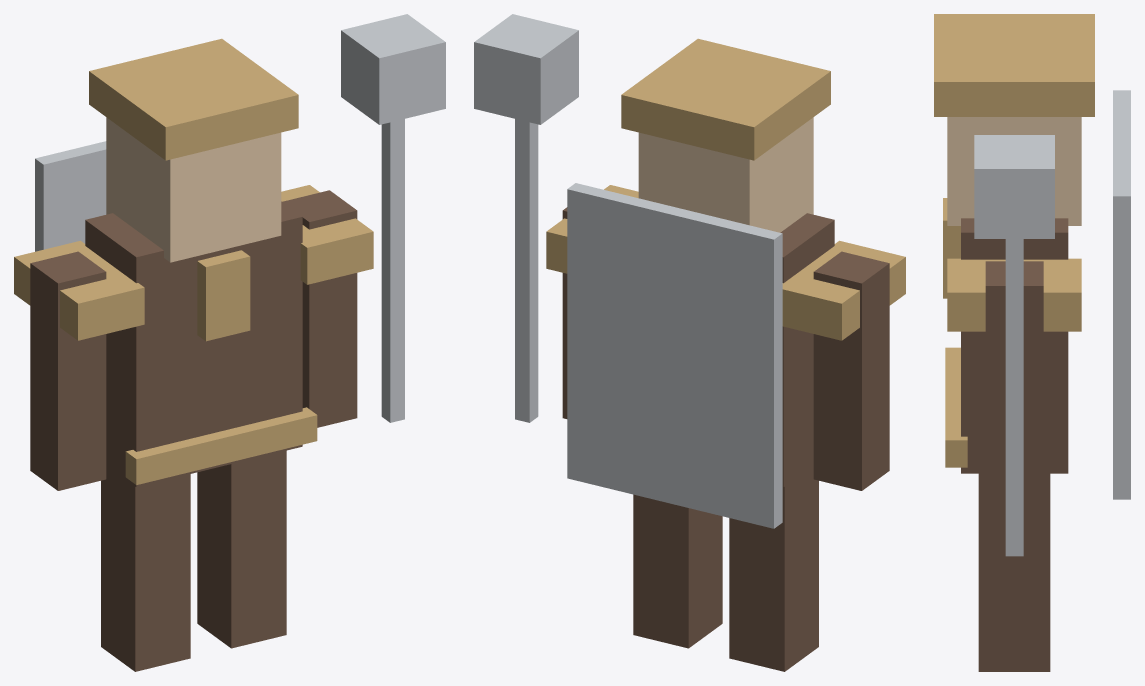
Rendered from 04_edda_voxmere_responder_under_index.glb.
3 renders of one model, left to right at view 1: azimuth 30°, elevation 25°; view 2: azimuth 150°, elevation 25°; view 3: azimuth 270°, elevation 25°, orthographic. The views are drawn at different scales.
Parts seen in each view (by area): view 1: Edda Voxmere, Responder under Index; view 2: Edda Voxmere, Responder under Index; view 3: Edda Voxmere, Responder under Index.
Boxes of the visible parts, bbox=[...] form: Edda Voxmere, Responder under Index: bbox=[14, 14, 445, 671]; Edda Voxmere, Responder under Index: bbox=[474, 14, 905, 671]; Edda Voxmere, Responder under Index: bbox=[934, 14, 1130, 671].
Size of the model in its own units: 1.01 by 1.41 by 0.4296.
